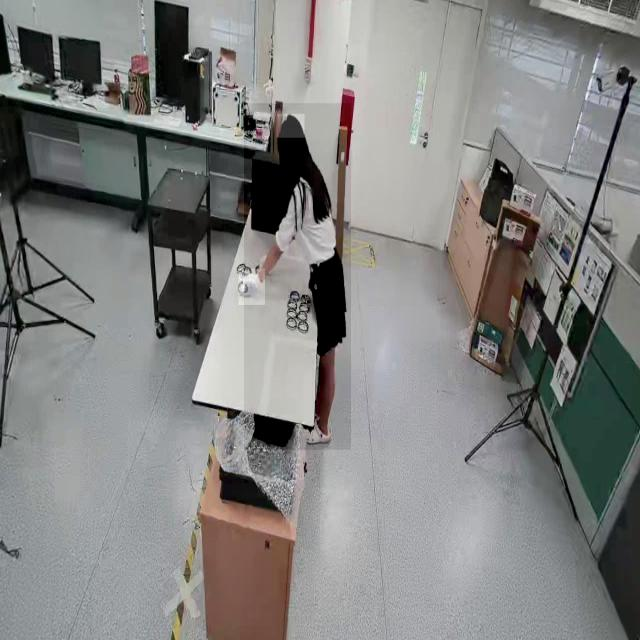hand_glove: (238, 268, 266, 306)
head_nohelmet: (277, 114, 305, 138)
person: (244, 103, 352, 451)
